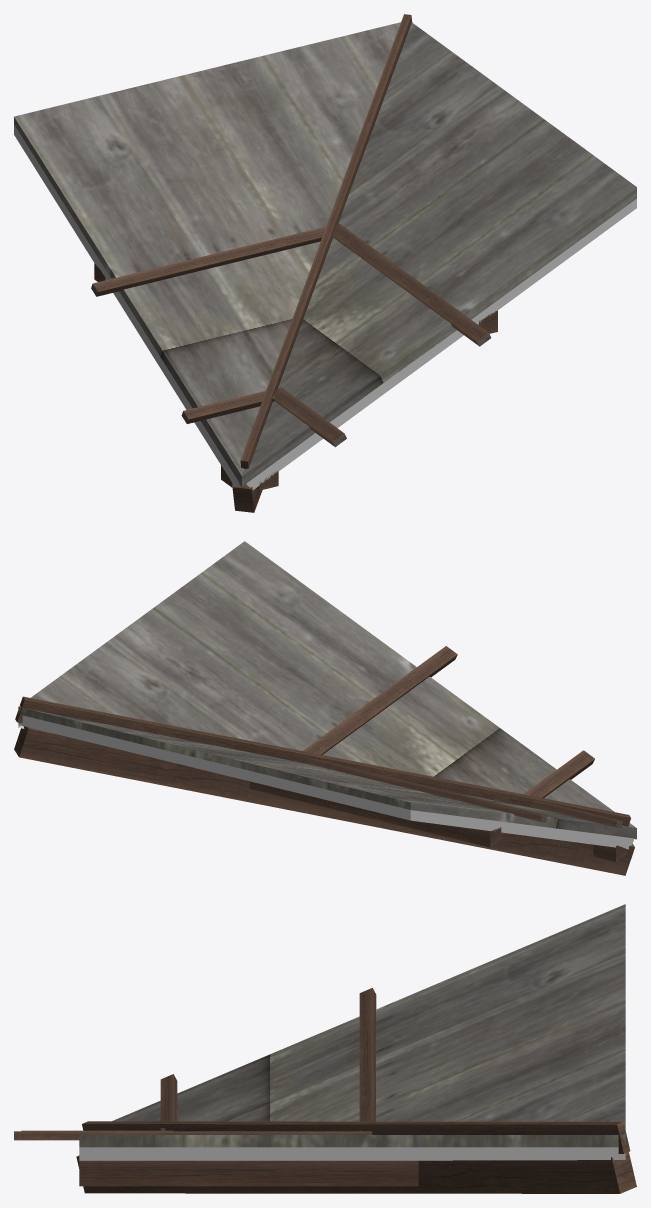
Rendered from itabuki_2x2t_a1corner_cav.fbx.
3 views of the same model, one above another, from view 1: azimuth 30°, elevation 25°; view 2: azimuth 150°, elevation 25°; view 3: azimuth 270°, elevation 25° (orthographic). The views are drawn at different scales.
Parts seen in each view (by area): view 1: itabuki_2x2t_a1corner_cav; view 2: itabuki_2x2t_a1corner_cav; view 3: itabuki_2x2t_a1corner_cav.
Part boxes in pixels (<box>): itabuki_2x2t_a1corner_cav: <box>14,14,636,512</box>; itabuki_2x2t_a1corner_cav: <box>14,541,636,875</box>; itabuki_2x2t_a1corner_cav: <box>14,904,636,1193</box>.
Bounding box in the file's own units: 290 × 157 × 305.
